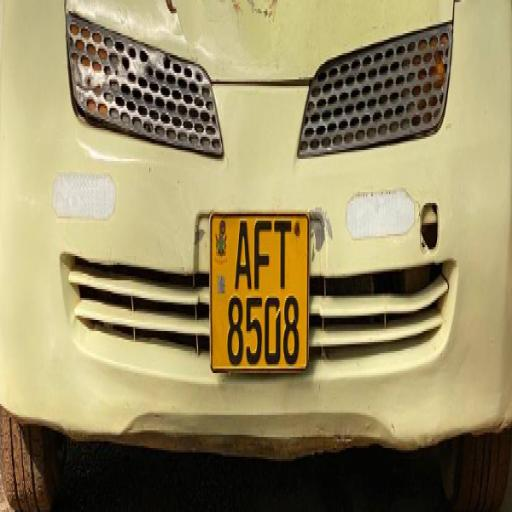number-plates: (212, 212, 306, 375)
